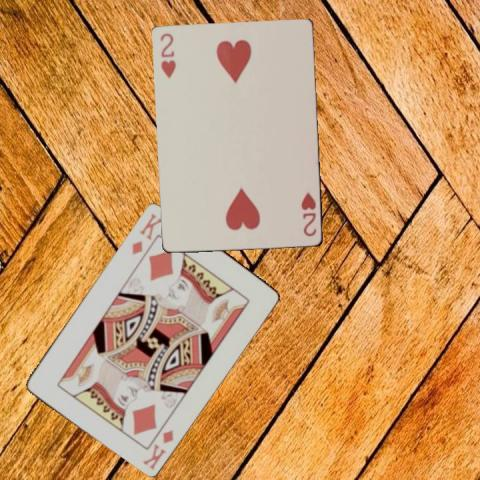2h: (157, 30, 178, 80), (298, 190, 318, 238)
Kd: (128, 210, 165, 256), (140, 426, 176, 471)
